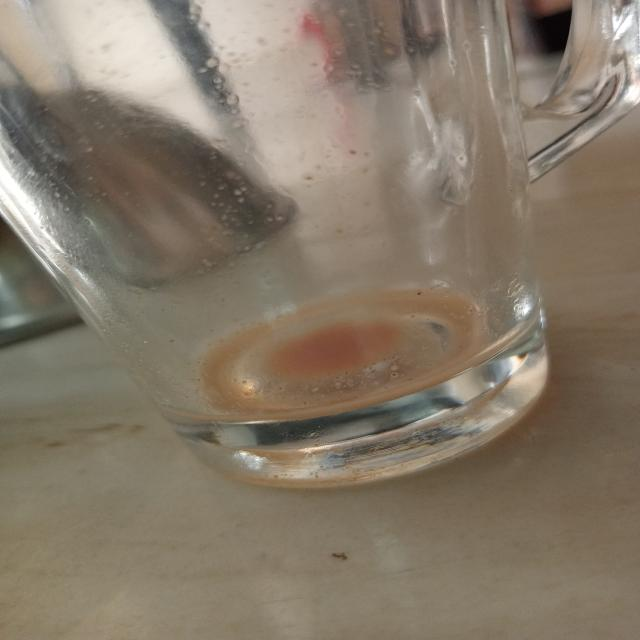glass-VX4N: (2, 0, 639, 463)
